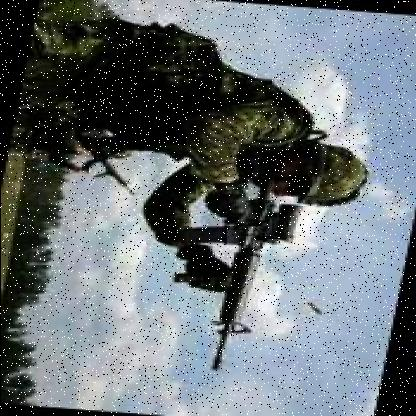rifle: (169, 142, 295, 372)
